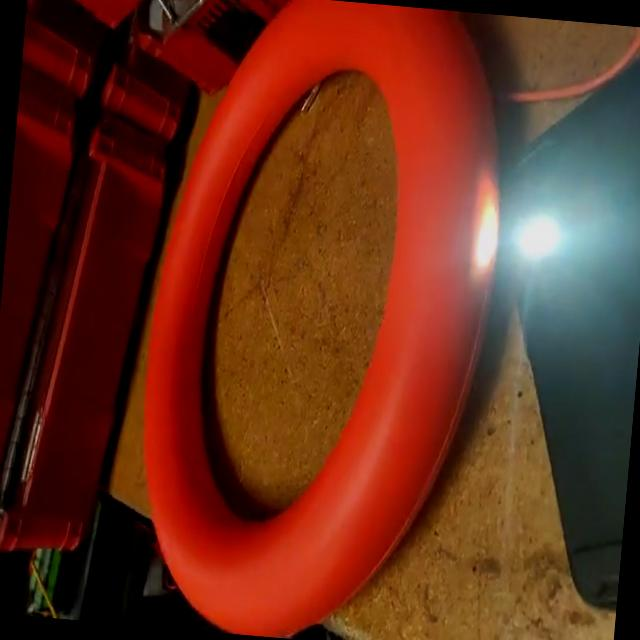note: (117, 0, 521, 640)
